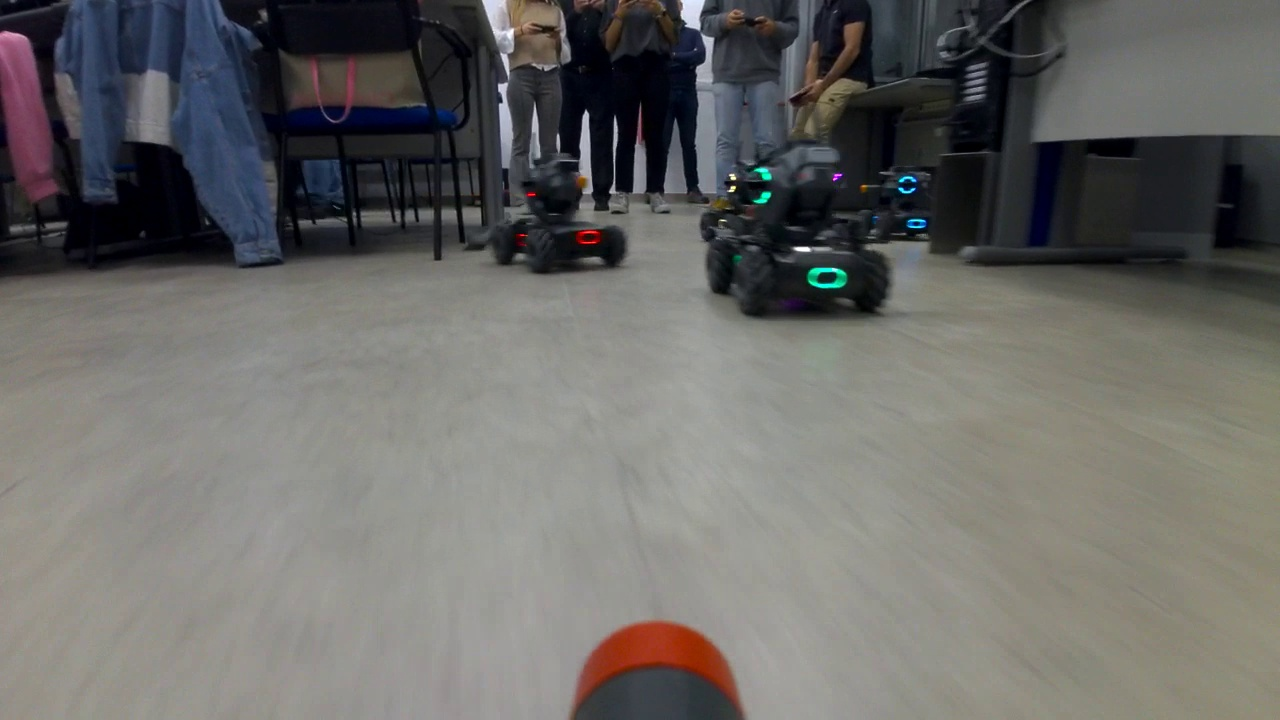robot: (700, 143, 891, 320), (486, 156, 629, 277), (858, 169, 934, 245)
